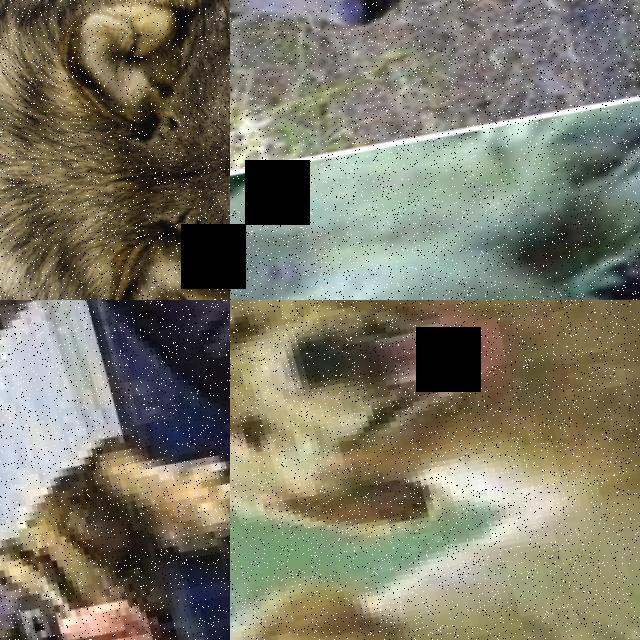dog: (230, 300, 640, 606), (230, 463, 640, 640), (0, 400, 230, 640)
wolf: (230, 58, 640, 300), (0, 0, 230, 300), (230, 0, 640, 145)
